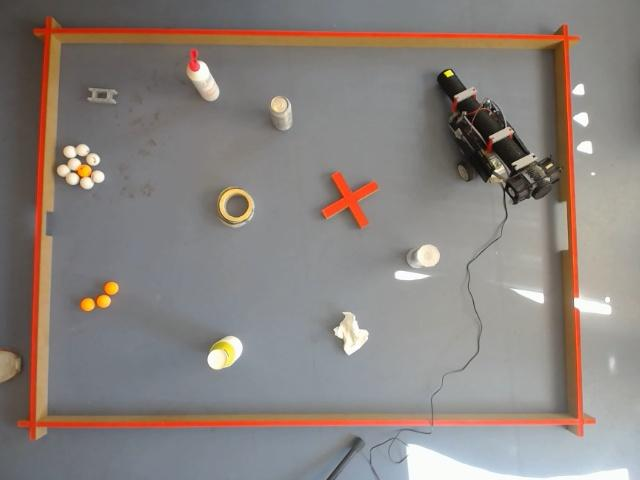orange: (104, 282, 119, 295), (80, 298, 95, 311), (96, 295, 111, 308), (78, 164, 92, 177)
robot: (437, 69, 562, 205)
robot-front: (442, 69, 455, 80)
white: (68, 158, 81, 171), (57, 165, 70, 177), (63, 146, 76, 158), (76, 144, 89, 156), (92, 171, 105, 183), (80, 177, 93, 189), (87, 153, 100, 165), (66, 173, 79, 184)
